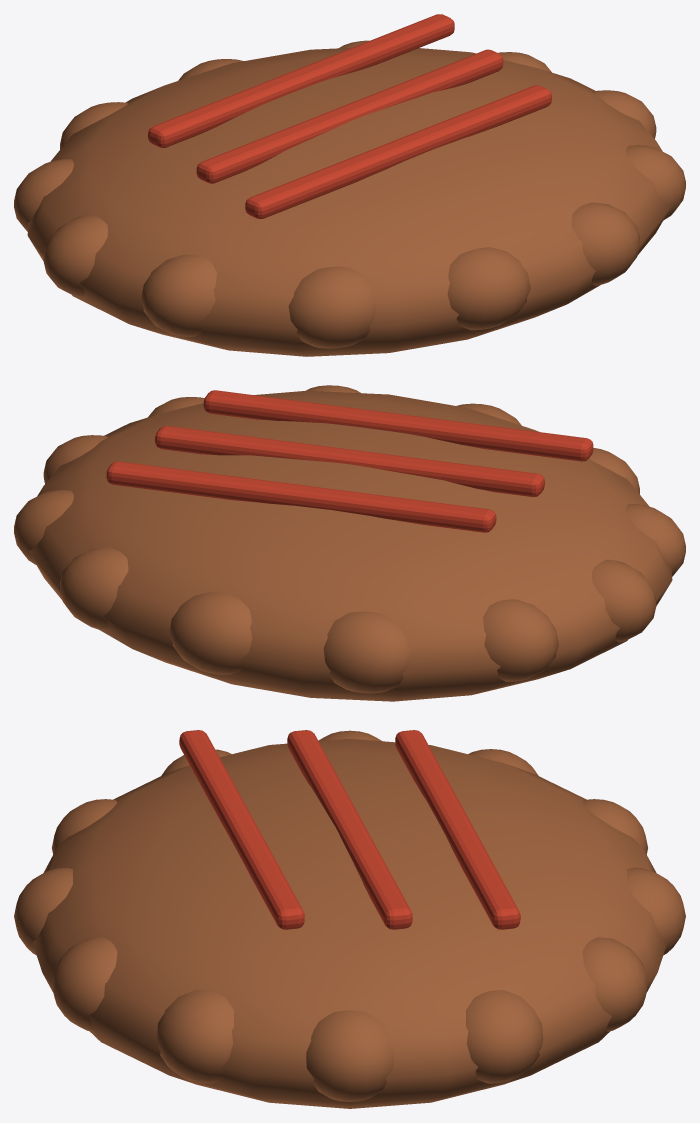
Rendered from BeefCooked.fbx.
3 views of the same model, one above another, from view 1: azimuth 30°, elevation 25°; view 2: azimuth 150°, elevation 25°; view 3: azimuth 270°, elevation 25° (orthographic). The views are drawn at different scales.
Visible parts, largest first — view 1: MAT_BeefCooked Geometry, MAT_Sauce Geometry; view 2: MAT_BeefCooked Geometry, MAT_Sauce Geometry; view 3: MAT_BeefCooked Geometry, MAT_Sauce Geometry.
Part boxes in pixels (x1=…): MAT_BeefCooked Geometry: x1=14, y1=40, x2=685, y2=356; MAT_Sauce Geometry: x1=148, y1=14, x2=551, y2=218; MAT_BeefCooked Geometry: x1=14, y1=385, x2=685, y2=701; MAT_Sauce Geometry: x1=106, y1=390, x2=593, y2=532; MAT_BeefCooked Geometry: x1=14, y1=730, x2=685, y2=1108; MAT_Sauce Geometry: x1=179, y1=730, x2=520, y2=929.
Size of the model in its own units: 93 by 26.8 by 81.
